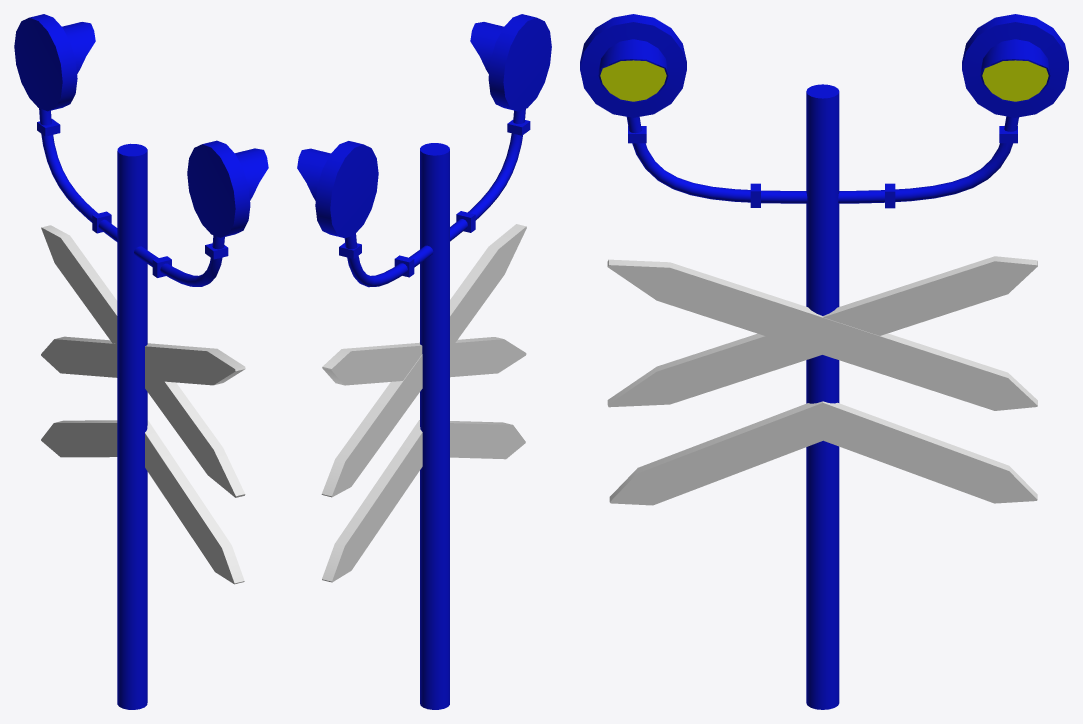
The model's file is sfetofor.fbx.
3 views of the same model, side by side, from view 1: azimuth 30°, elevation 25°; view 2: azimuth 150°, elevation 25°; view 3: azimuth 270°, elevation 25° (orthographic). The views are drawn at different scales.
Visible parts, largest first — view 1: svetofor; view 2: svetofor; view 3: svetofor.
Part boxes in pixels (x1,y1,x2,y2): svetofor: (14,14,268,709); svetofor: (297,14,551,709); svetofor: (580,14,1068,709).
Size of the model in its own units: 1.57 by 15.78 by 10.2.
